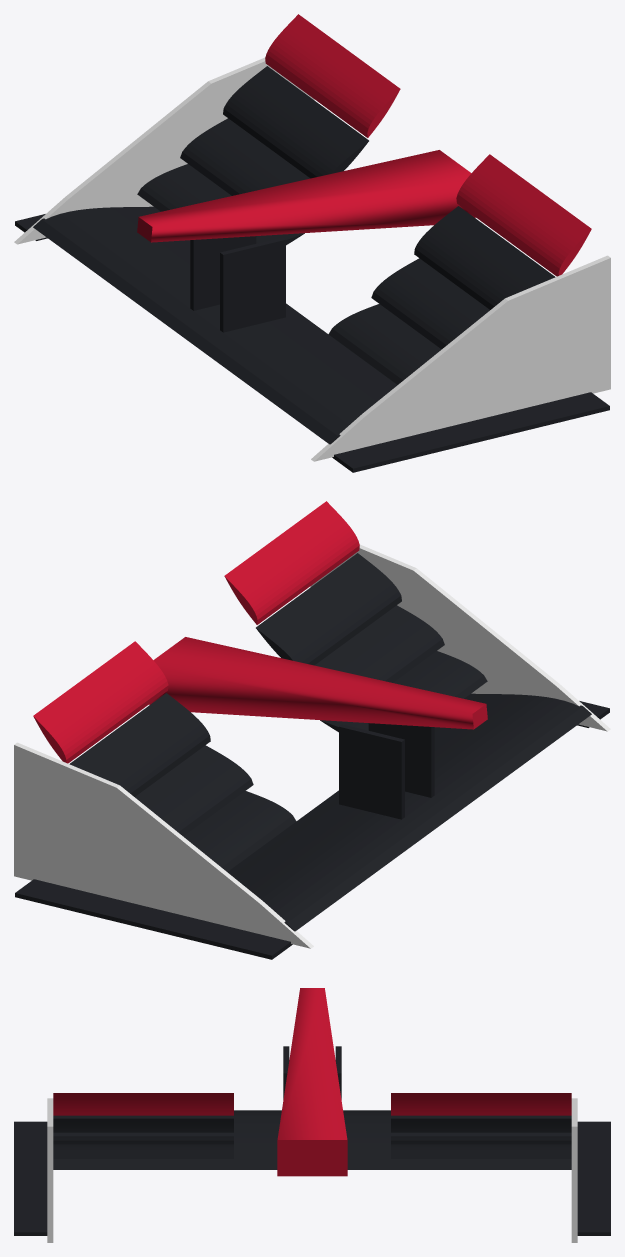
Rendered from front-wing.glb.
3 views of the same model, one above another, from view 1: azimuth 30°, elevation 25°; view 2: azimuth 150°, elevation 25°; view 3: azimuth 270°, elevation 25° (orthographic). The views are drawn at different scales.
Parts seen in each view (by area): view 1: part12, part0, part15, part5, part3, part4, part11, part10, part13, part9, part14, part2 (+3 smaller); view 2: part5, part0, part15, part12, part10, part11, part4, part3, part6, part2, part7, part9 (+3 smaller); view 3: part0, part15, part4, part11, part6, part13, part1, part3, part8, part10, part2, part9 (+2 smaller).
Part boxes in pixels (x1,y1,x2,y2): part12: (311, 255, 610, 461); part0: (33, 206, 397, 444); part15: (137, 150, 475, 242); part5: (14, 57, 314, 244); part3: (223, 66, 368, 178); part4: (265, 14, 400, 137); part11: (456, 154, 591, 276); part10: (414, 206, 555, 309); part13: (332, 392, 609, 472); part9: (371, 258, 489, 349); part14: (220, 237, 285, 332); part2: (180, 118, 310, 195); part5: (14, 742, 313, 948); part0: (227, 693, 591, 931); part15: (149, 637, 487, 729); part12: (310, 544, 610, 731); part10: (256, 553, 401, 665); part11: (224, 501, 359, 624); part4: (33, 641, 168, 763); part3: (69, 693, 210, 796); part6: (15, 879, 292, 959); part2: (135, 745, 253, 836); part7: (339, 724, 404, 819); part9: (314, 605, 444, 682); part0: (53, 1110, 571, 1169); part15: (277, 988, 347, 1176); part4: (391, 1093, 571, 1115); part11: (53, 1093, 233, 1115); part6: (577, 1121, 610, 1235); part13: (14, 1121, 47, 1235); part1: (391, 1144, 571, 1158); part3: (391, 1118, 571, 1132); part8: (53, 1144, 233, 1158); part10: (53, 1118, 233, 1132); part2: (391, 1136, 571, 1144); part9: (53, 1136, 233, 1144).
Bounding box in the file's own units: 1.11 × 0.5487 × 2.05.
